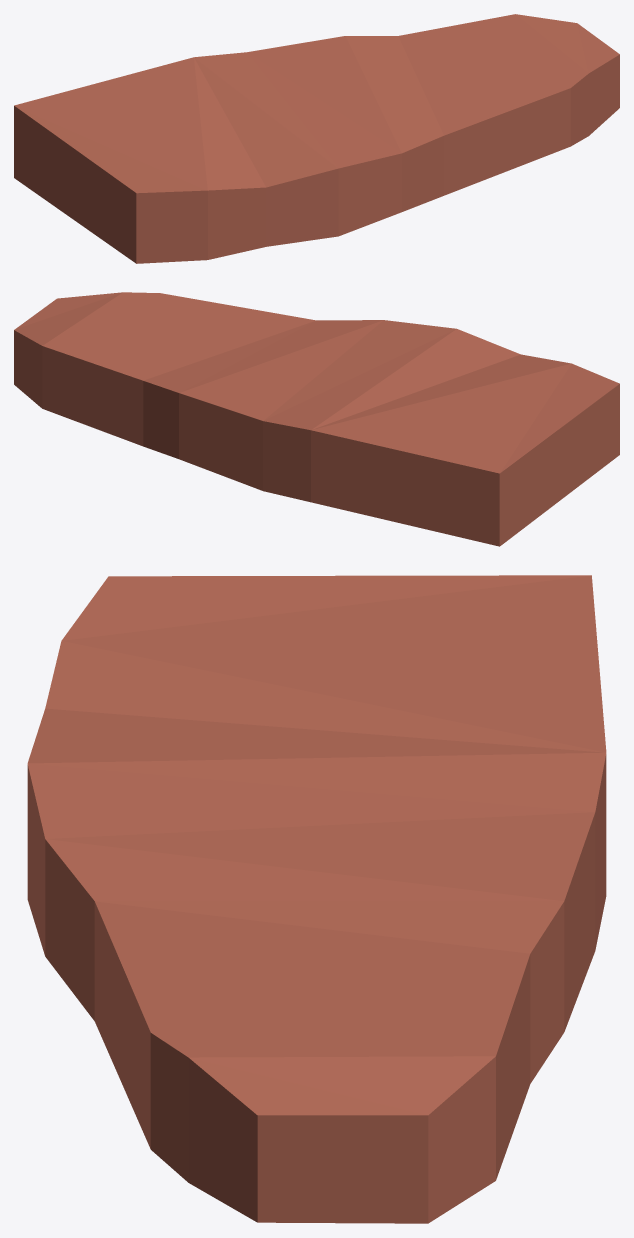
The model's file is cuttedChickenFillet.fbx.
The picture shows the model from 3 angles, top to bottom: view 1: azimuth 30°, elevation 25°; view 2: azimuth 150°, elevation 25°; view 3: azimuth 270°, elevation 25°; orthographic projection. The views are drawn at different scales.
Parts seen in each view (by area): view 1: Cylinder; view 2: Cylinder; view 3: Cylinder.
Part boxes in pixels (x1,y1,x2,y2): Cylinder: (14, 14, 619, 263); Cylinder: (14, 292, 619, 546); Cylinder: (27, 575, 606, 1223).
Size of the model in its own units: 334 by 45.97 by 160.
